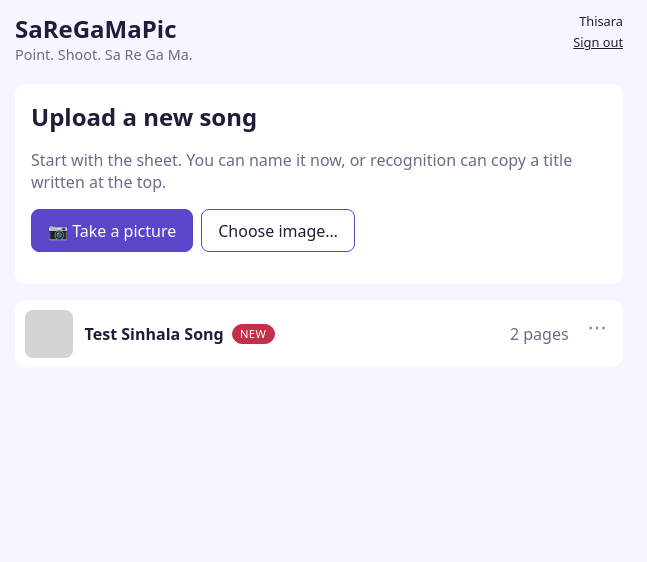
Test case: App › disables the digital menu options until there is something to open
Check: the text "Test Sinhala Song" is shown, box [85,323,224,345]
Click the button named "Actions for Test Sinhala Song". click: (597,326)
box: [575,304,619,348]
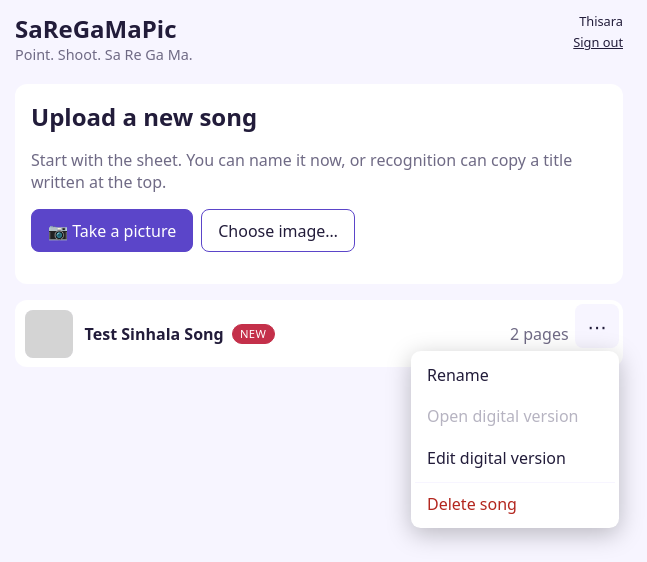
Check: the menu item "Open digital version" is disabled, box [415,396,615,437]
Check: the menu item "Edit digital version" is enabled, box [415,437,615,478]
Check: the menu item "Delete song" is shown, box [415,482,615,524]
